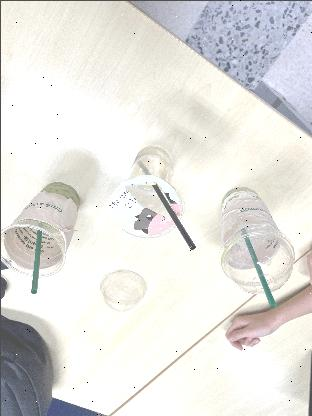Others: (0, 180, 82, 278), (216, 184, 294, 284), (106, 144, 188, 236), (134, 158, 197, 251), (218, 228, 296, 296), (239, 226, 277, 310), (93, 267, 149, 313), (29, 220, 43, 293)
